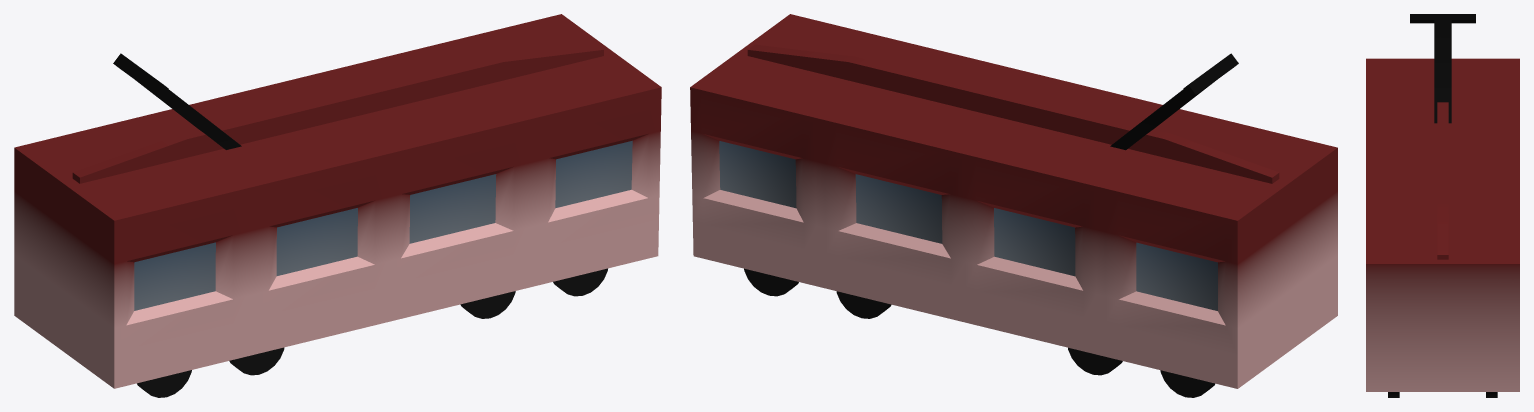
Rendered from SM_Props_Train_03.fbx.
The picture shows the model from 3 angles, left to right: view 1: azimuth 30°, elevation 25°; view 2: azimuth 150°, elevation 25°; view 3: azimuth 270°, elevation 25°; orthographic projection. The views are drawn at different scales.
Parts seen in each view (by area): view 1: matchsize44; view 2: matchsize44; view 3: matchsize44.
Boxes of the visible parts, <box> form: matchsize44: <box>14,14,661,397</box>; matchsize44: <box>690,14,1337,397</box>; matchsize44: <box>1366,14,1519,397</box>.
Bounding box in the file's own units: 5.5 × 2.88 × 1.74.
